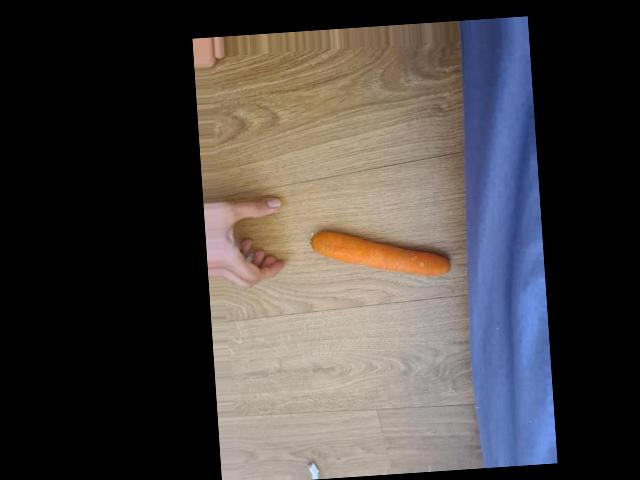carrot: (310, 223, 452, 282)
